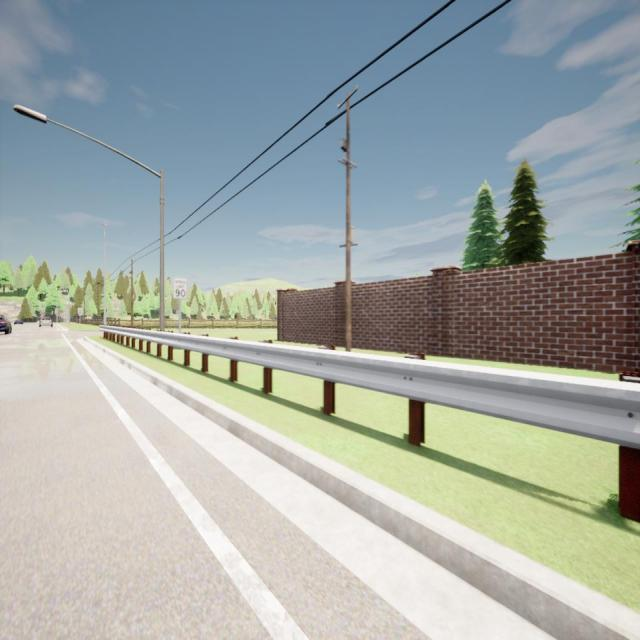Traffic_Signs: (174, 277, 186, 299), (78, 308, 84, 316)
Vehicle: (0, 315, 12, 335), (38, 316, 52, 327), (14, 319, 23, 325)
